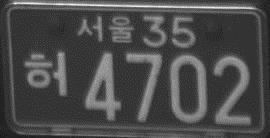0: (169, 53, 207, 125)
2: (212, 55, 253, 126)
3: (141, 14, 168, 49)
4: (82, 52, 122, 123)
5: (169, 15, 195, 49)
7: (123, 52, 164, 124)
서울_O: (75, 14, 135, 44)
허: (23, 50, 69, 97)
